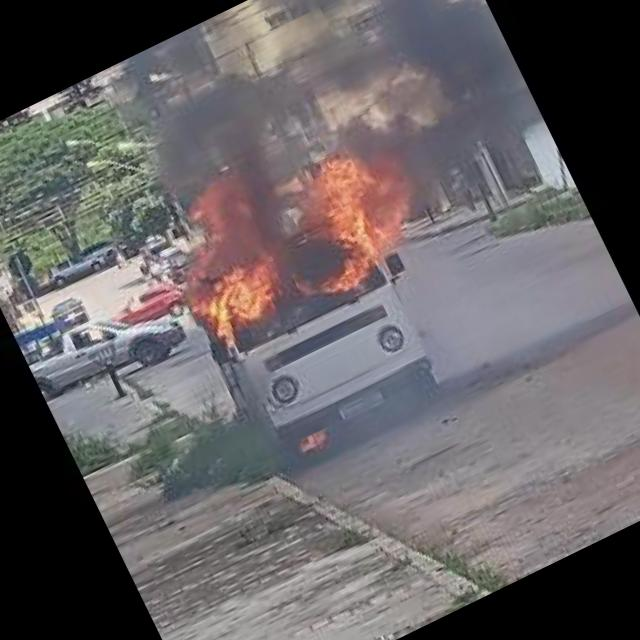fire: (252, 127, 438, 306), (148, 170, 296, 350), (296, 429, 327, 452)
smoke: (247, 0, 563, 258), (80, 11, 326, 290)
